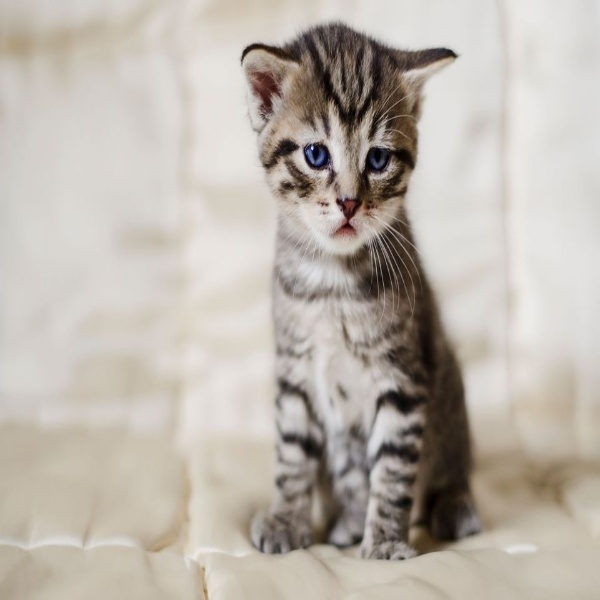cat: (232, 22, 479, 562)
